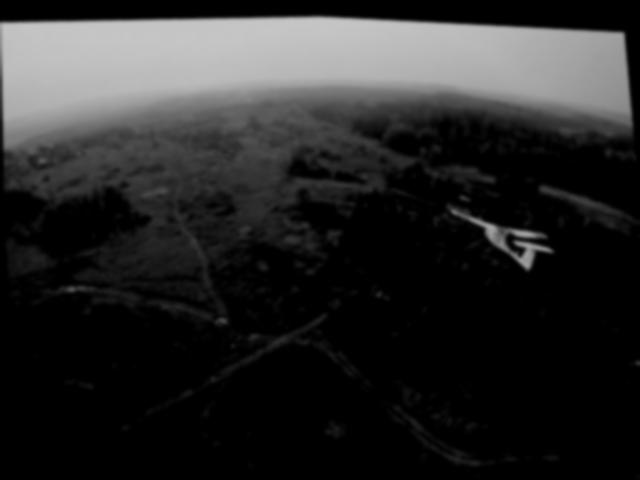hedef: (443, 186, 558, 279)
